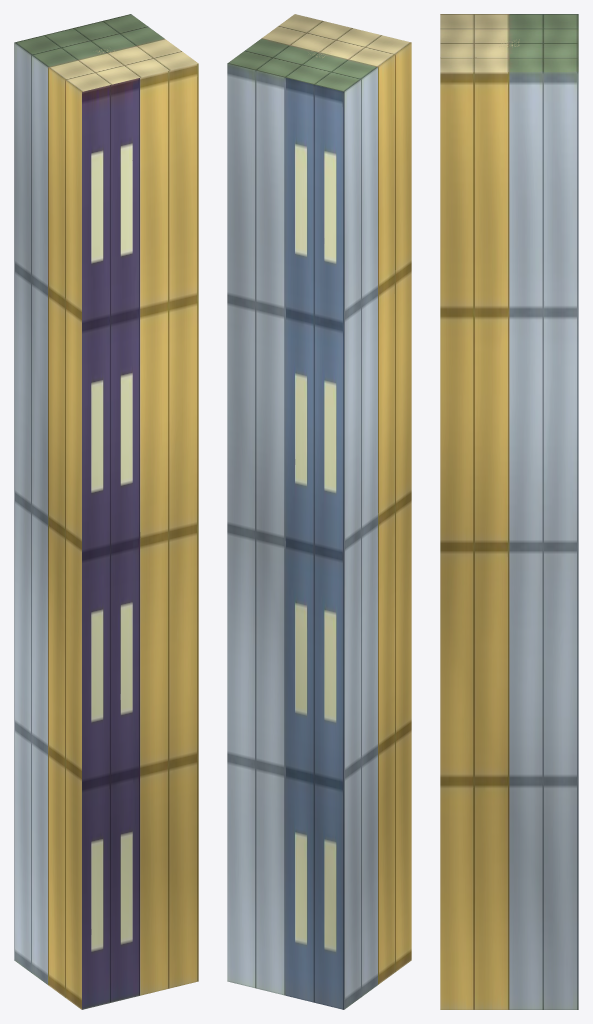
Rendered from street_lamp.glb.
The picture shows the model from 3 angles, left to right: view 1: azimuth 30°, elevation 25°; view 2: azimuth 150°, elevation 25°; view 3: azimuth 270°, elevation 25°; orthographic projection. The views are drawn at different scales.
Parts seen in each view (by area): view 1: col; view 2: col; view 3: col.
Boxes of the visible parts, left/top/right/bottom form: col: left=14, top=14, right=198, bottom=1009; col: left=227, top=14, right=411, bottom=1009; col: left=440, top=14, right=578, bottom=1009.
Size of the model in its own units: 0.5733 by 4.3 by 0.5749.
1 material, 1 textured.
